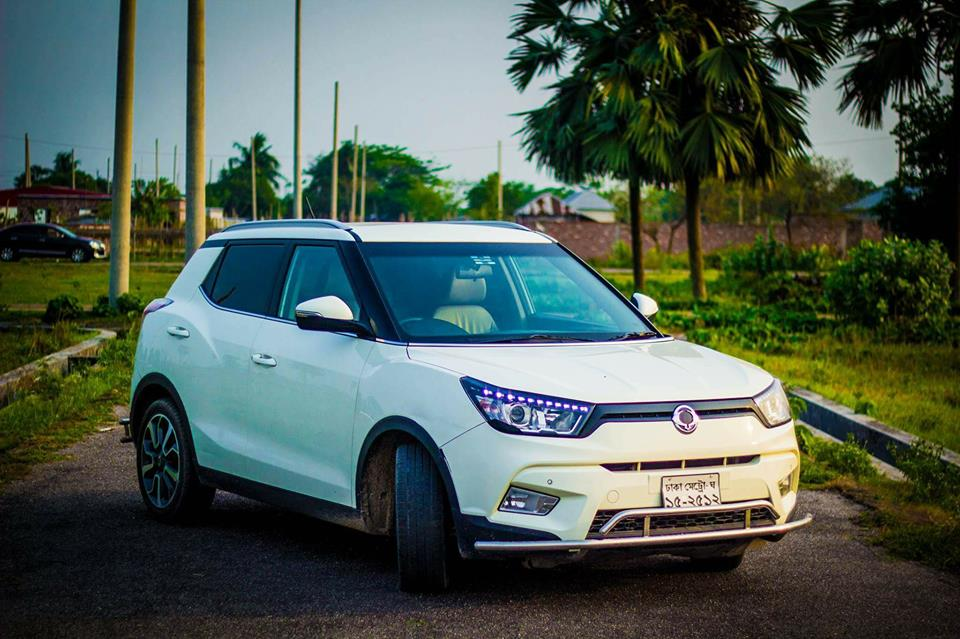registration_plate: (661, 472, 721, 508)
